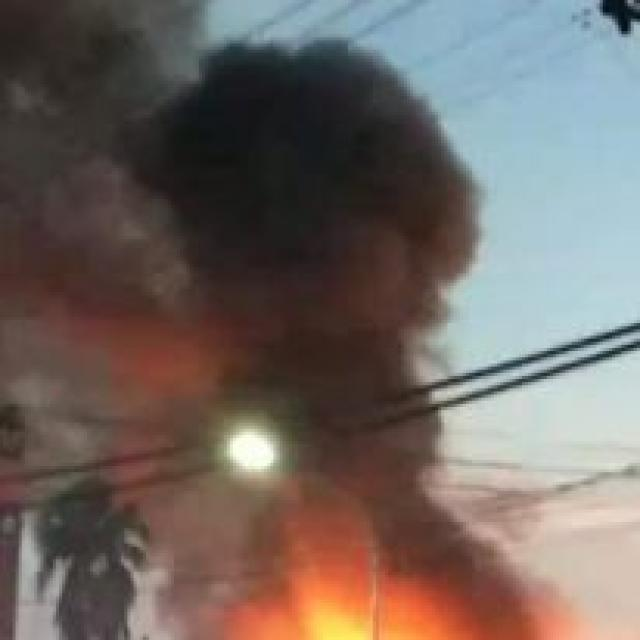Fire: (192, 522, 498, 640)
Smoke: (0, 0, 551, 640)
